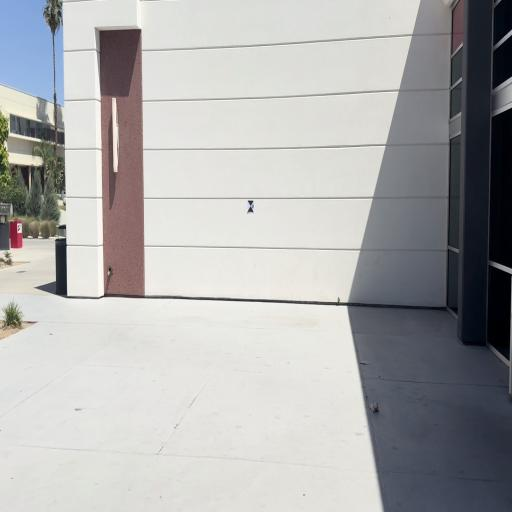target0: (248, 200, 254, 214)
